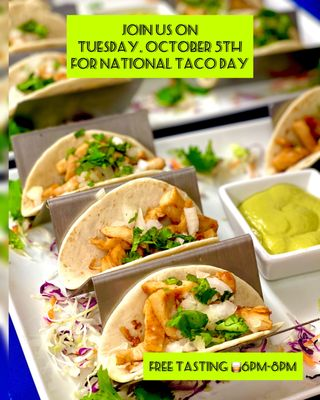sushi: (95, 263, 278, 385), (49, 172, 226, 291), (217, 167, 320, 281), (262, 86, 320, 176)
